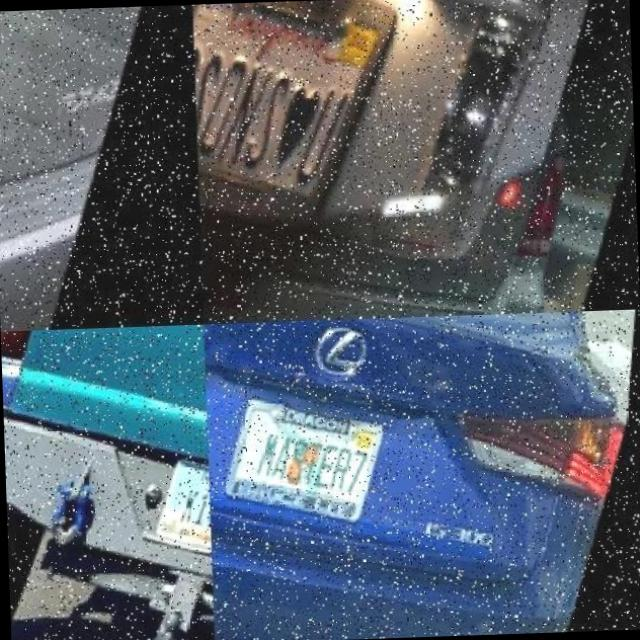LicensePlate: (193, 0, 406, 236), (228, 394, 393, 522), (162, 456, 210, 546)
